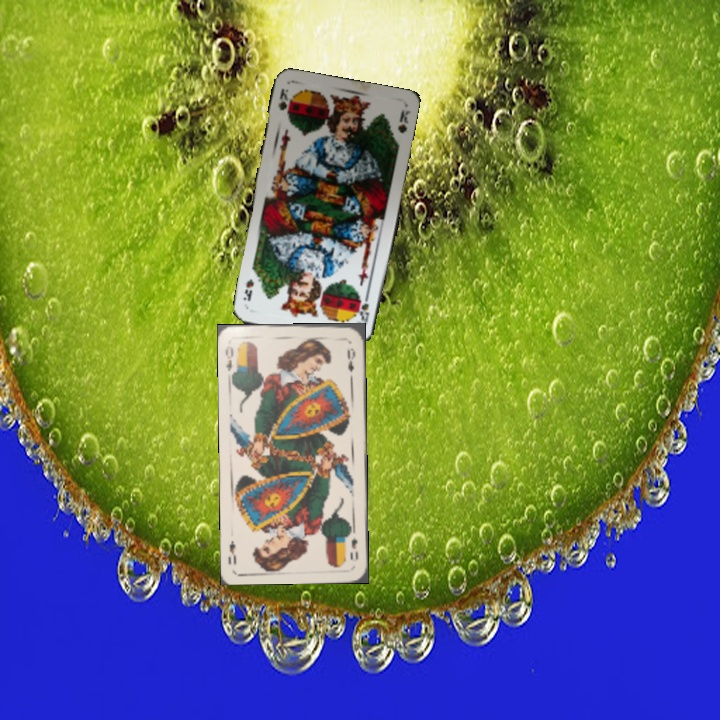EO: (344, 526, 360, 562), (221, 341, 236, 373)
SK: (355, 289, 372, 329), (274, 84, 293, 117)
